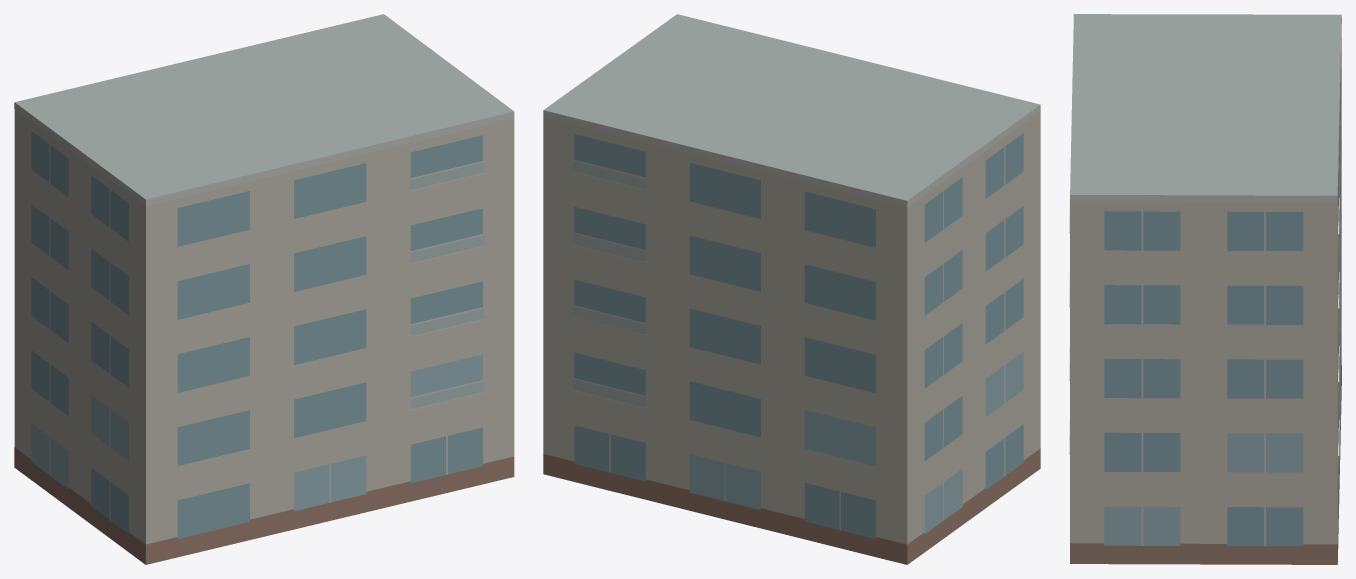
File: survey-upis-32638437.glb
3 views of the same model, side by side, from view 1: azimuth 30°, elevation 25°; view 2: azimuth 150°, elevation 25°; view 3: azimuth 270°, elevation 25° (orthographic).
Parts seen in each view (by area): view 1: survey-upis-32638437.tmp; view 2: survey-upis-32638437.tmp; view 3: survey-upis-32638437.tmp.
Part boxes in pixels (<box>): survey-upis-32638437.tmp: <box>14,14,514,564</box>; survey-upis-32638437.tmp: <box>543,14,1040,564</box>; survey-upis-32638437.tmp: <box>1069,14,1341,564</box>.
Size of the model in its own units: 13.74 by 13 by 8.71.
